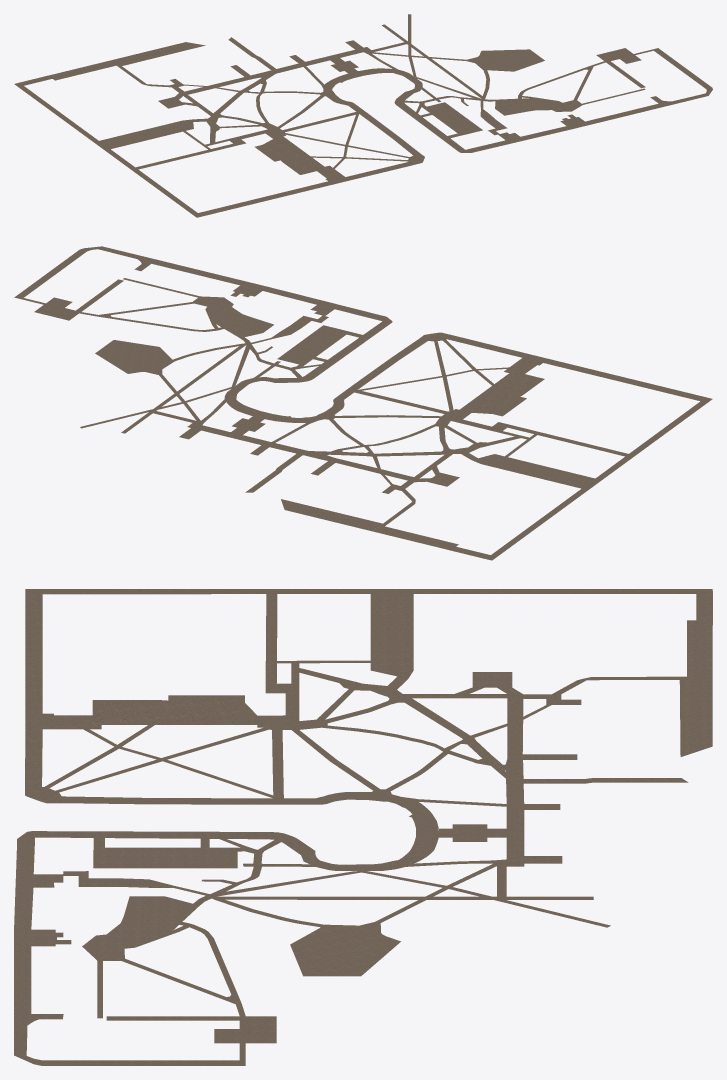
File: Sidewalks_v5.gltf
The picture shows the model from 3 angles, top to bottom: view 1: azimuth 30°, elevation 25°; view 2: azimuth 150°, elevation 25°; view 3: azimuth 270°, elevation 25°; orthographic projection. The views are drawn at different scales.
Visible parts, largest first — view 1: Plane; view 2: Plane; view 3: Plane.
Boxes of the visible parts, x1,y1,x2,y2 form: Plane: (14, 14, 712, 217); Plane: (14, 246, 712, 560); Plane: (14, 589, 712, 1065).
Bounding box in the file's own units: 352 × 5.84e-05 × 218.
Materials: 1 (1 with a texture image).
